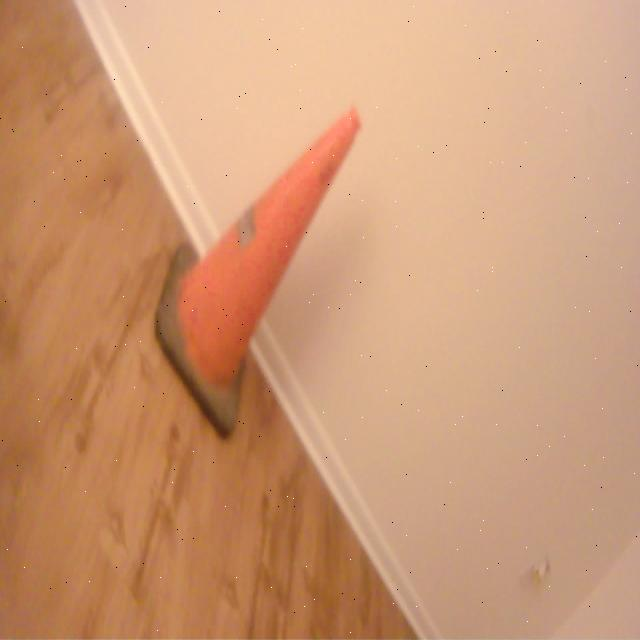traffic cone: (152, 101, 367, 447)
